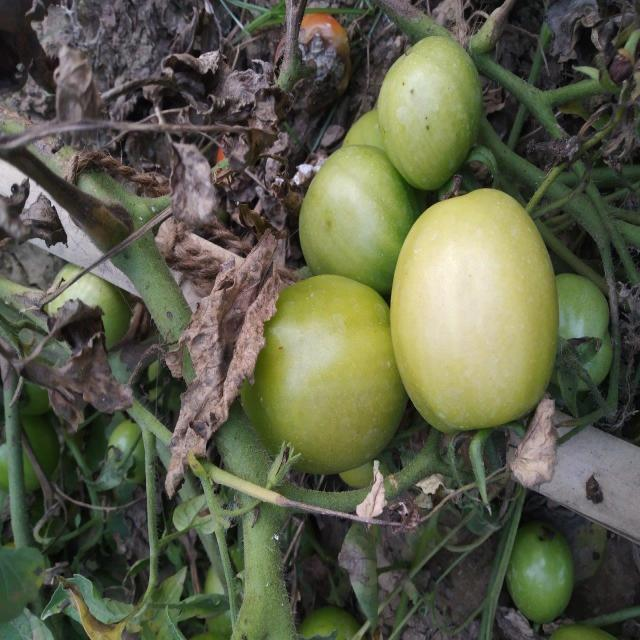Unripe: (391, 184, 558, 434), (238, 271, 400, 477), (375, 34, 481, 190)
